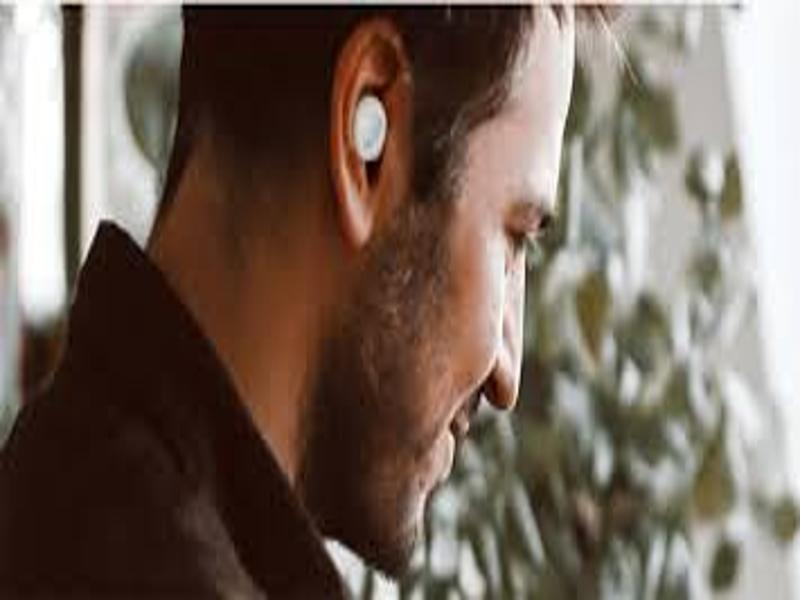headphone: (350, 94, 390, 166)
